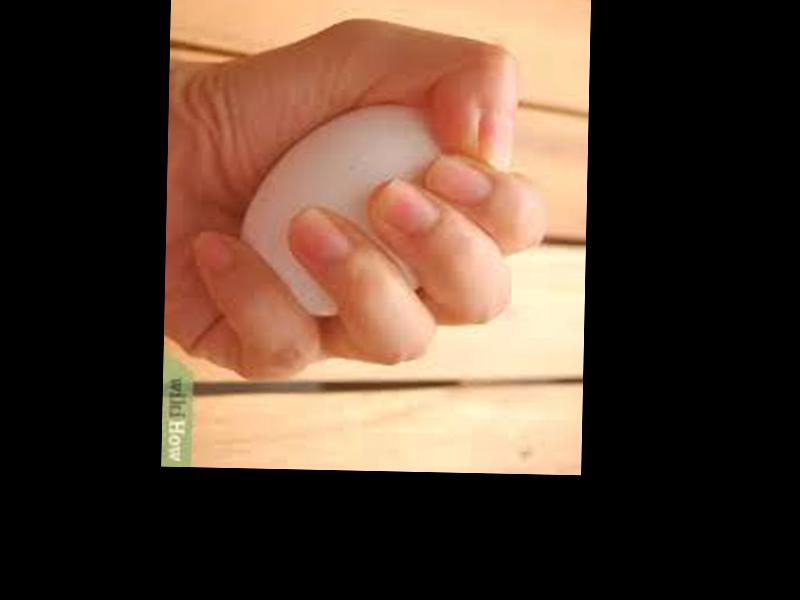Eggs: (239, 99, 441, 319)
